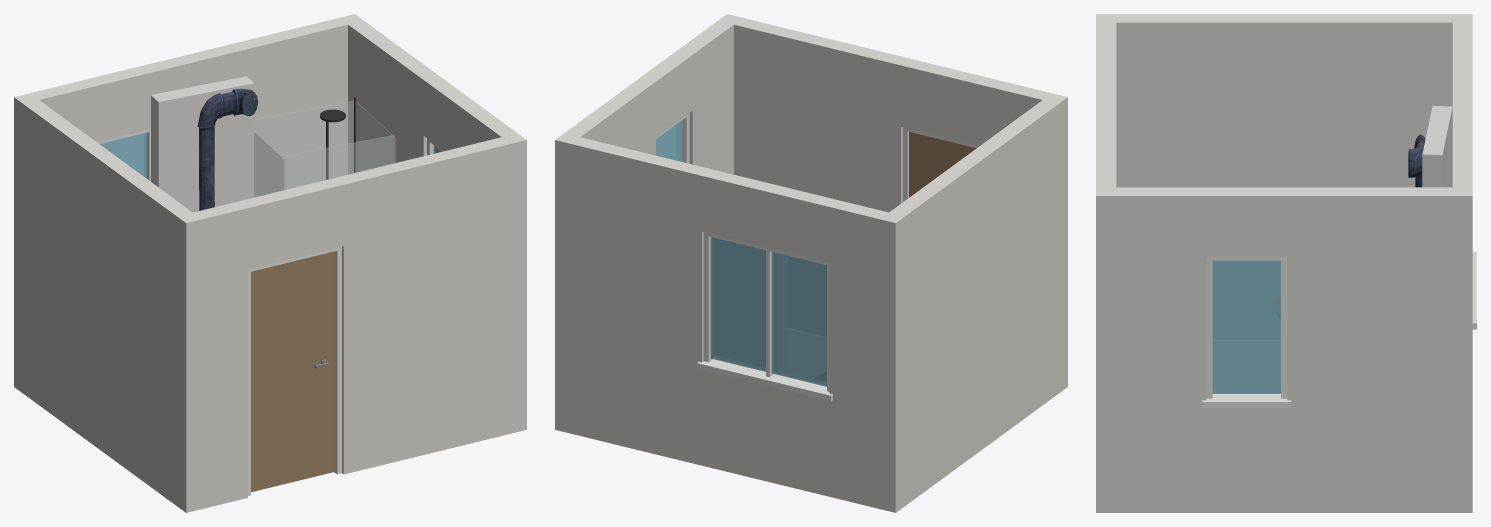
File: layoutvlm.glb
3 views of the same model, side by side, from view 1: azimuth 30°, elevation 25°; view 2: azimuth 150°, elevation 25°; view 3: azimuth 270°, elevation 25° (orthographic). The views are drawn at different scales.
Visible parts, largest first — view 1: wall|scenesmith_075__R00|0, wall|scenesmith_075__R00|2, wall|scenesmith_075__R00|1, wall|scenesmith_075__R00|0 Door 0 | wood leaf, wall|scenesmith_075__R00|3, scenesmith_075__R00_plumbing_chase-0 | structural enclosure, Rear glass, scenesmith_075__R00_pipes-0, wall|scenesmith_075__R00|0 Door 0 | jamb, wall|scenesmith_075__R00|1 Window 0 | glazing, Rain head; view 2: wall|scenesmith_075__R00|1, wall|scenesmith_075__R00|2, wall|scenesmith_075__R00|0, wall|scenesmith_075__R00|3, wall|scenesmith_075__R00|1 Window 0 | glazing, wall|scenesmith_075__R00|1 Window 0 | jamb, wall|scenesmith_075__R00|0 Door 0 | wood leaf, wall|scenesmith_075__R00|3 Window 0 | glazing, wall|scenesmith_075__R00|0 Door 0 | jamb; view 3: wall|scenesmith_075__R00|3, wall|scenesmith_075__R00|2, wall|scenesmith_075__R00|3 Window 0 | glazing, wall|scenesmith_075__R00|1, wall|scenesmith_075__R00|0, wall|scenesmith_075__R00|3 Window 0 | jamb, scenesmith_075__R00_plumbing_chase-0 | structural enclosure, scenesmith_075__R00_pipes-0.
Part boxes in pixels (<box>): wall|scenesmith_075__R00|0: <box>186,137,526,512</box>; wall|scenesmith_075__R00|2: <box>23,100,201,512</box>; wall|scenesmith_075__R00|1: <box>14,14,363,393</box>; wall|scenesmith_075__R00|0 Door 0 | wood leaf: <box>251,251,335,492</box>; wall|scenesmith_075__R00|3: <box>348,21,526,174</box>; scenesmith_075__R00_plumbing_chase-0 | structural enclosure: <box>151,76,254,212</box>; Rear glass: <box>254,101,395,197</box>; scenesmith_075__R00_pipes-0: <box>197,88,257,210</box>; wall|scenesmith_075__R00|0 Door 0 | jamb: <box>248,246,341,495</box>; wall|scenesmith_075__R00|1 Window 0 | glazing: <box>100,132,147,178</box>; Rain head: <box>320,97,356,179</box>; wall|scenesmith_075__R00|1: <box>555,133,904,512</box>; wall|scenesmith_075__R00|2: <box>880,93,1067,512</box>; wall|scenesmith_075__R00|0: <box>734,18,1067,389</box>; wall|scenesmith_075__R00|3: <box>555,14,742,433</box>; wall|scenesmith_075__R00|1 Window 0 | glazing: <box>710,237,826,386</box>; wall|scenesmith_075__R00|1 Window 0 | jamb: <box>697,232,832,401</box>; wall|scenesmith_075__R00|0 Door 0 | wood leaf: <box>909,132,976,197</box>; wall|scenesmith_075__R00|3 Window 0 | glazing: <box>656,120,682,161</box>; wall|scenesmith_075__R00|0 Door 0 | jamb: <box>903,127,979,201</box>; wall|scenesmith_075__R00|3: <box>1096,187,1472,512</box>; wall|scenesmith_075__R00|2: <box>1096,14,1452,187</box>; wall|scenesmith_075__R00|3 Window 0 | glazing: <box>1212,260,1280,393</box>; wall|scenesmith_075__R00|1: <box>1452,14,1472,195</box>; wall|scenesmith_075__R00|0: <box>1096,22,1116,187</box>; wall|scenesmith_075__R00|3 Window 0 | jamb: <box>1202,257,1291,407</box>; scenesmith_075__R00_plumbing_chase-0 | structural enclosure: <box>1422,105,1452,187</box>; scenesmith_075__R00_pipes-0: <box>1408,134,1425,187</box>.
Bounding box in the file's own units: 3.23 × 2.61 × 2.83.
Materials: 14 (4 with a texture image).
